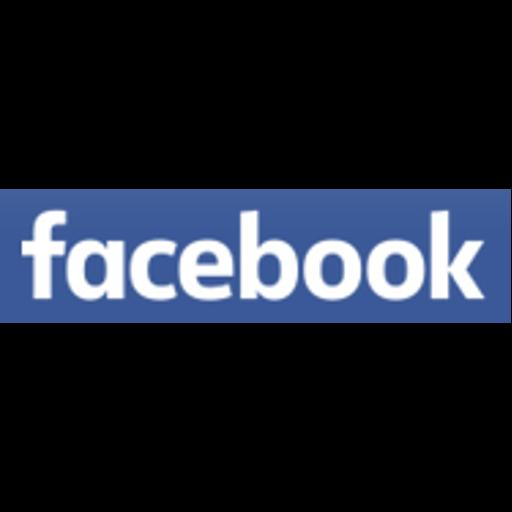Facebook: (0, 189, 511, 323)
